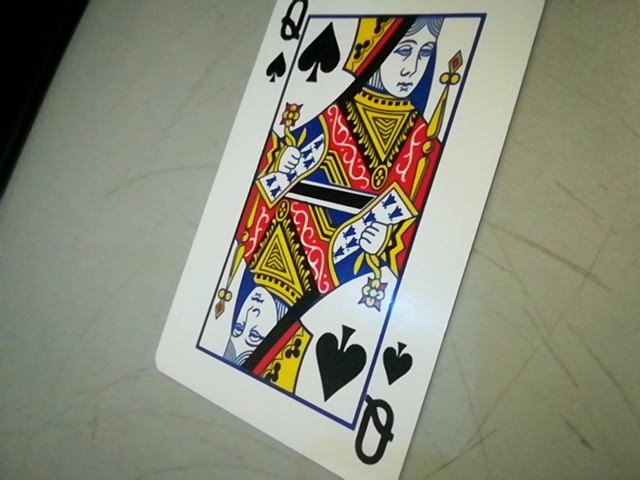ht q: (354, 333, 416, 477)
